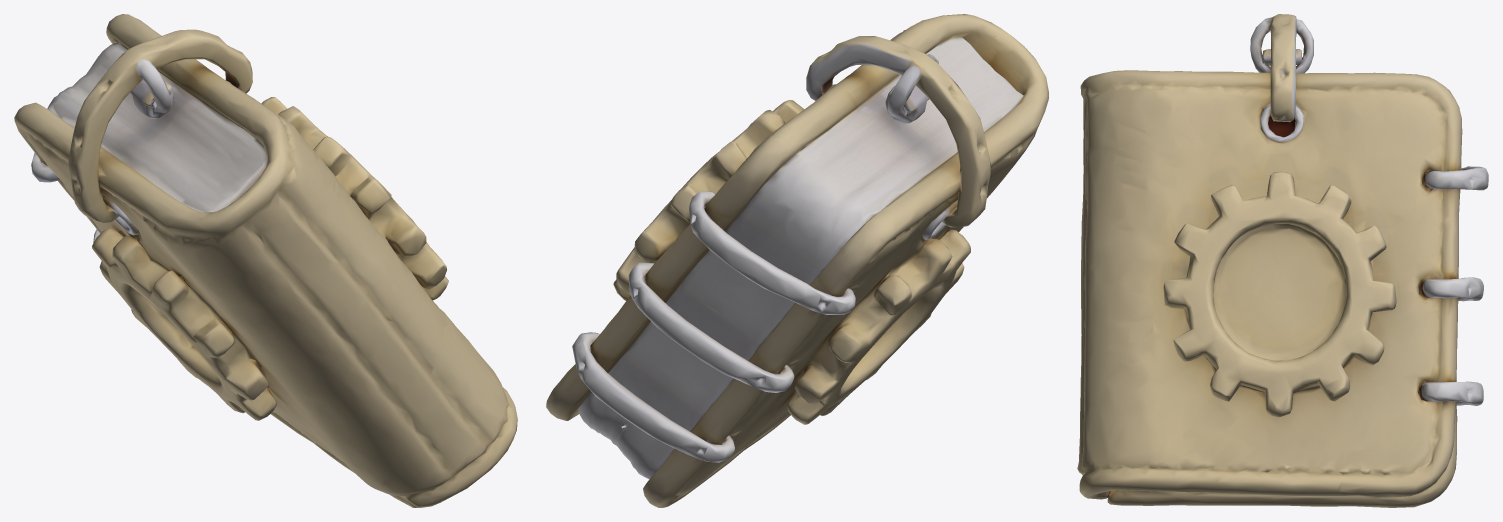
File: notebook-emboss.glb
The picture shows the model from 3 angles, left to right: view 1: azimuth 30°, elevation 25°; view 2: azimuth 150°, elevation 25°; view 3: azimuth 270°, elevation 25°; orthographic projection. The views are drawn at different scales.
Visible parts, largest first — view 1: tripo_node_f2826cde-312a-4782-993c-49577fafe231; view 2: tripo_node_f2826cde-312a-4782-993c-49577fafe231; view 3: tripo_node_f2826cde-312a-4782-993c-49577fafe231.
Part boxes in pixels (left/top/right/bottom): tripo_node_f2826cde-312a-4782-993c-49577fafe231: left=14, top=14, right=517, bottom=507; tripo_node_f2826cde-312a-4782-993c-49577fafe231: left=546, top=14, right=1048, bottom=507; tripo_node_f2826cde-312a-4782-993c-49577fafe231: left=1077, top=14, right=1488, bottom=507.
Size of the model in its own units: 0.8595 by 1 by 0.9013.
1 material, 1 textured.
